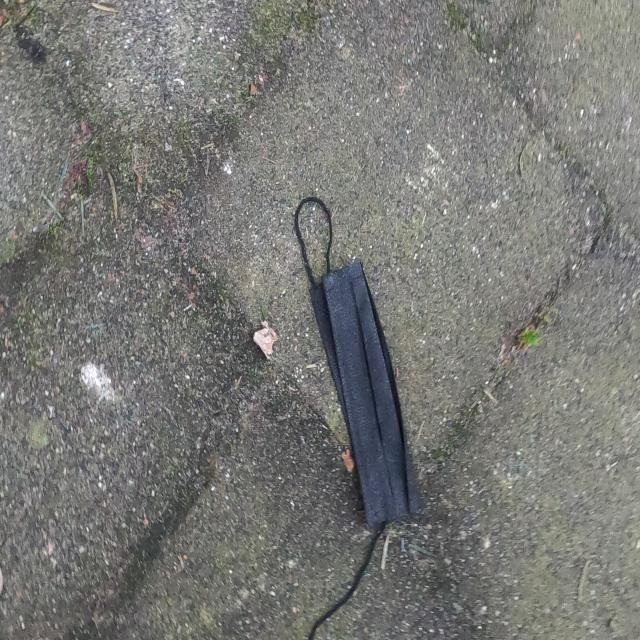Mask: (293, 195, 423, 640)
